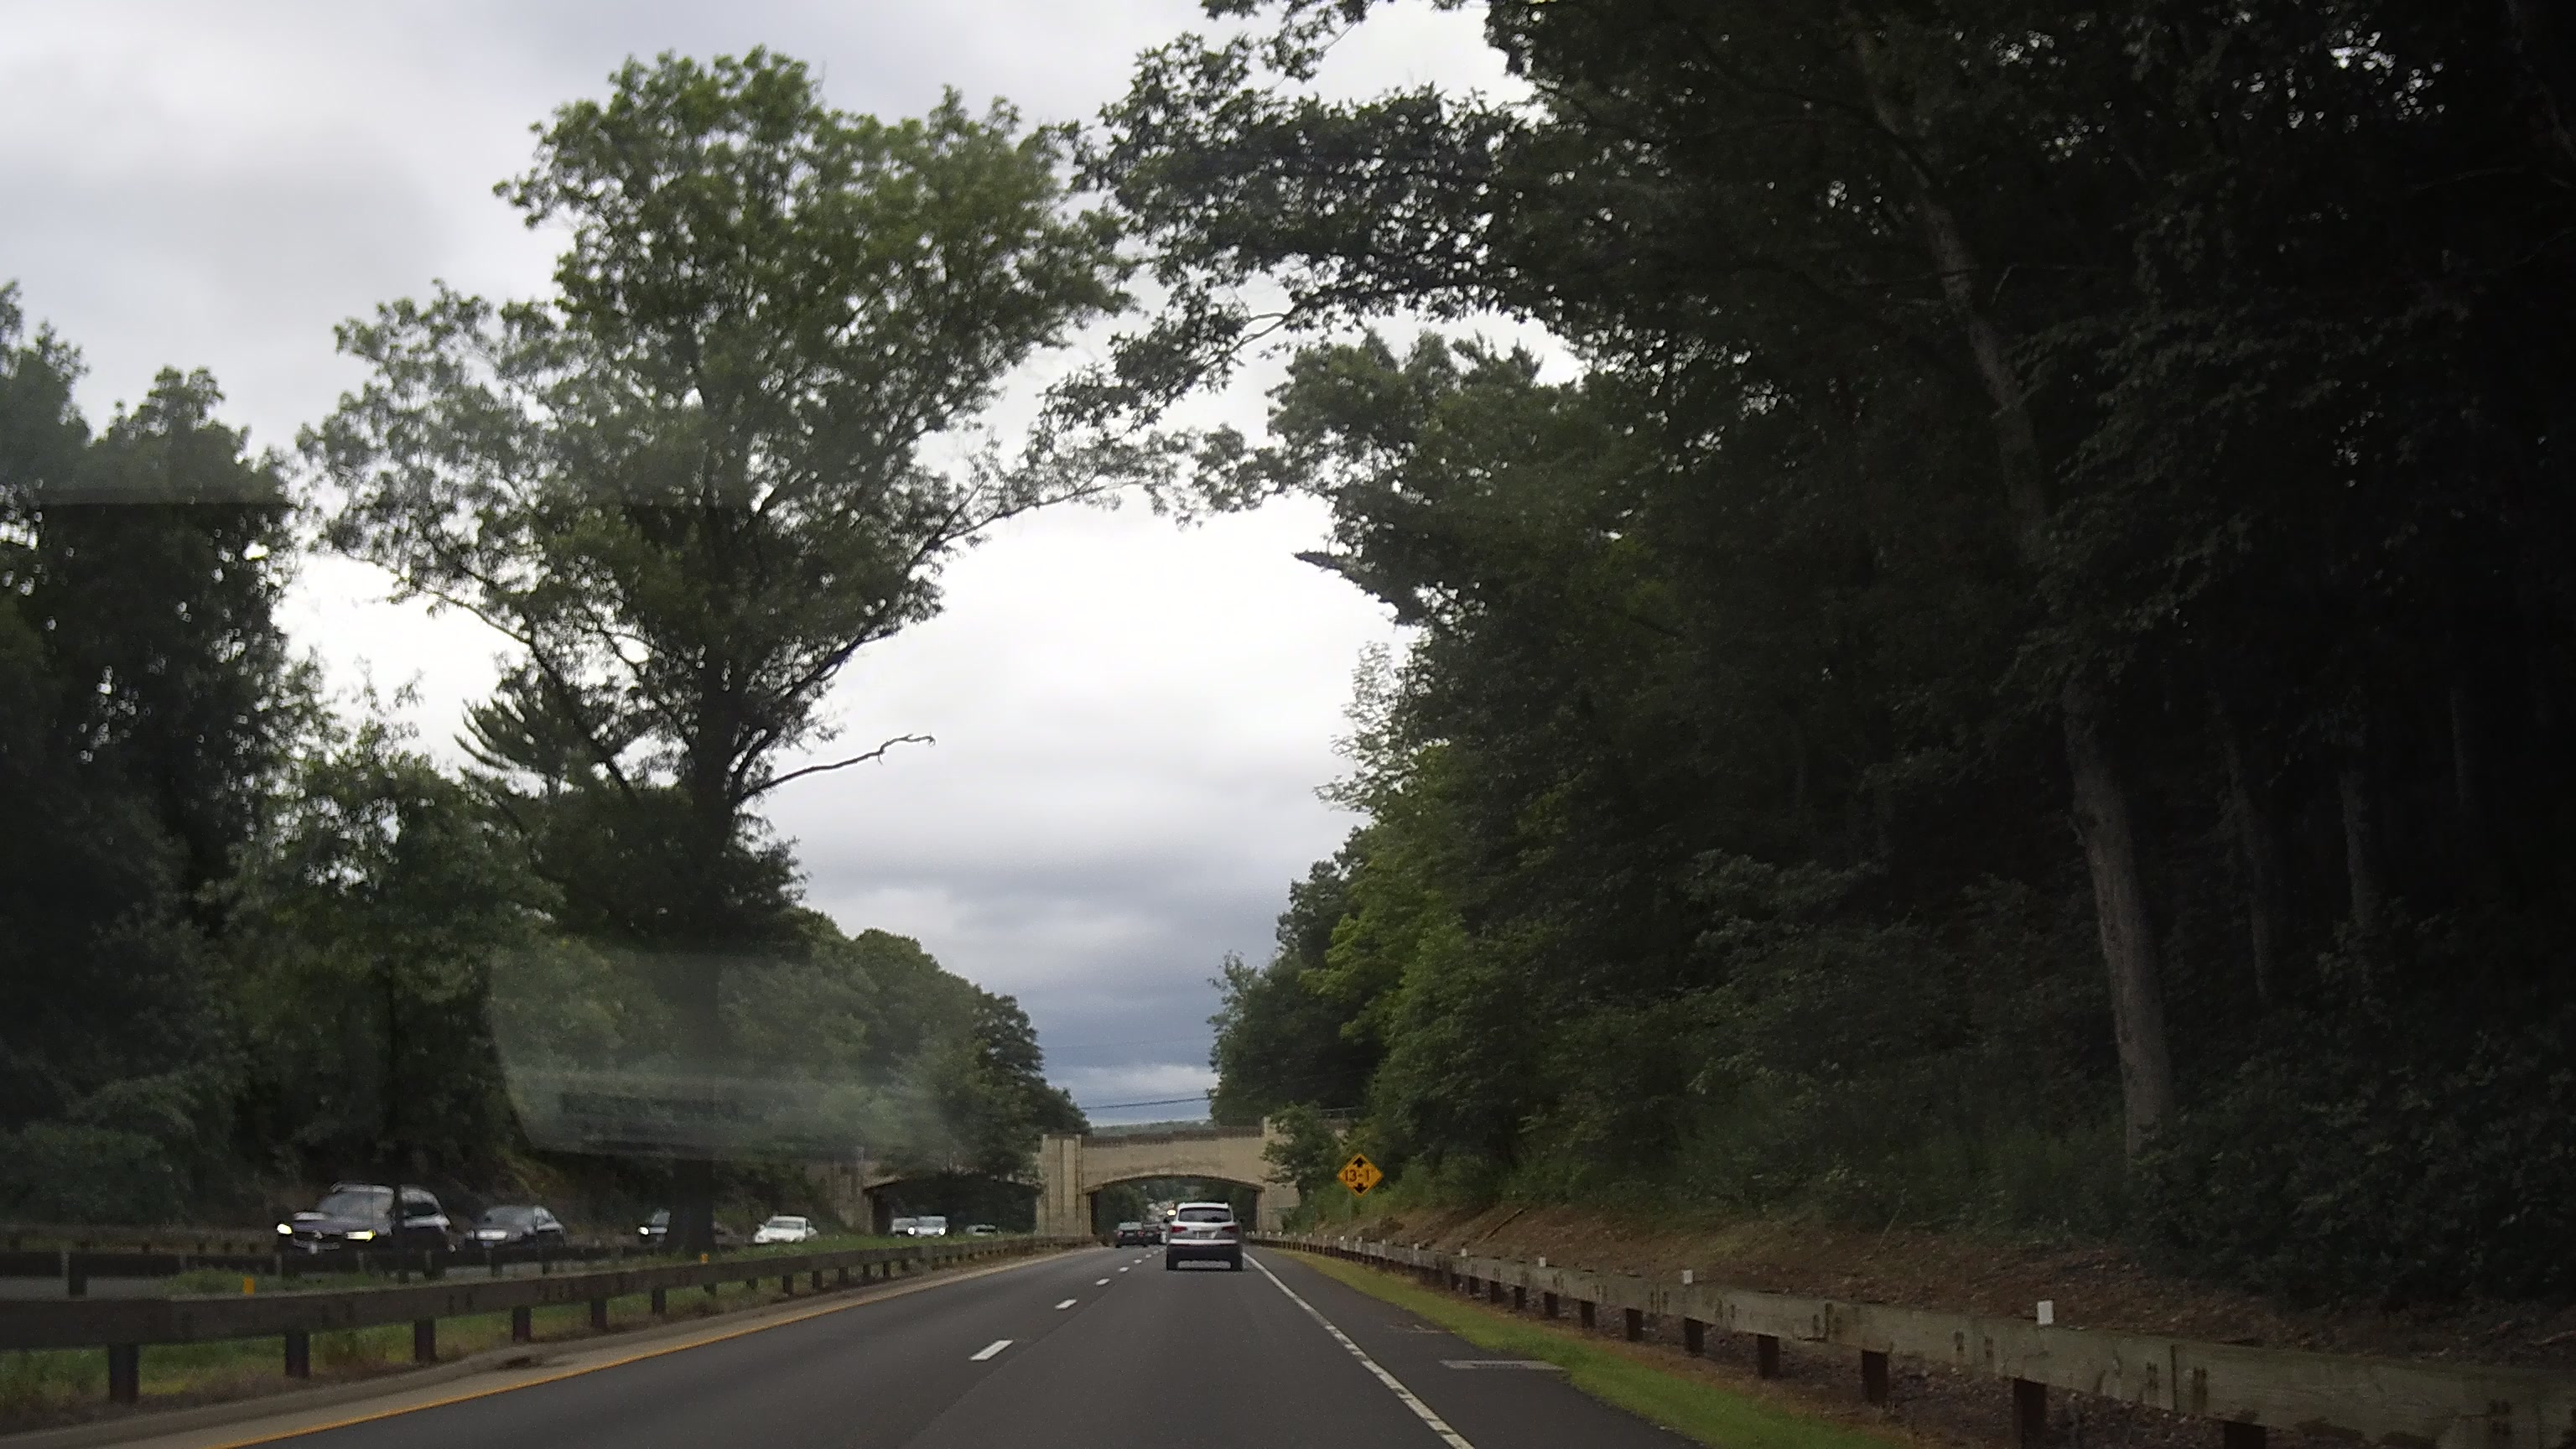low-clearance-sign: (1336, 1152, 1385, 1201)
